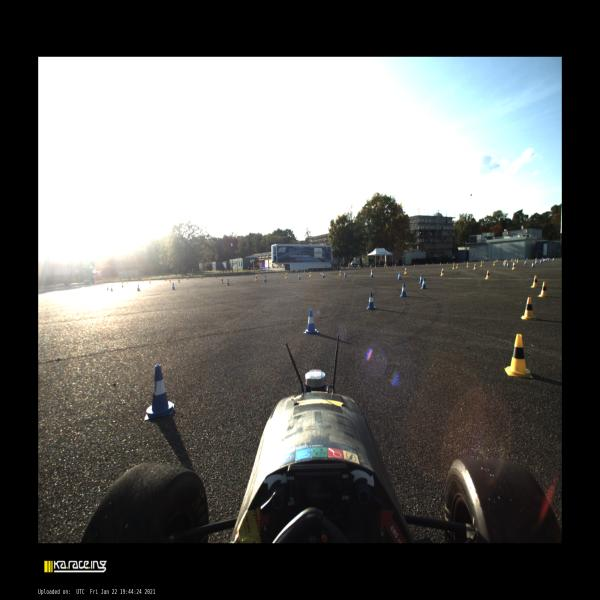blue_cone: (144, 366, 174, 420), (304, 309, 320, 335), (366, 292, 376, 310), (400, 283, 407, 297), (420, 278, 428, 289), (398, 272, 402, 280), (419, 274, 422, 284), (172, 283, 176, 289), (137, 284, 140, 291), (371, 271, 374, 278), (344, 272, 347, 278), (322, 272, 325, 278), (227, 279, 230, 285), (298, 274, 301, 279), (531, 262, 534, 267), (264, 276, 266, 282), (507, 262, 509, 267), (504, 262, 506, 267), (524, 260, 526, 265), (535, 259, 537, 264), (540, 259, 542, 263), (544, 258, 546, 261), (546, 258, 548, 261), (543, 258, 544, 262), (548, 258, 550, 260), (553, 258, 554, 261), (546, 258, 547, 261)
yellow_cone: (505, 334, 533, 379), (521, 296, 536, 320), (538, 281, 548, 297), (531, 276, 540, 288), (485, 271, 489, 279), (440, 268, 444, 276), (284, 273, 288, 278), (512, 264, 515, 270), (473, 264, 476, 270), (452, 264, 455, 270), (404, 268, 407, 274), (221, 277, 223, 283), (466, 263, 468, 268), (456, 264, 458, 269), (256, 275, 258, 280), (309, 272, 311, 277), (339, 270, 341, 275), (178, 278, 180, 283), (493, 262, 495, 266), (371, 269, 372, 277), (169, 278, 170, 283), (517, 258, 518, 262), (481, 263, 482, 266), (150, 280, 150, 284)
